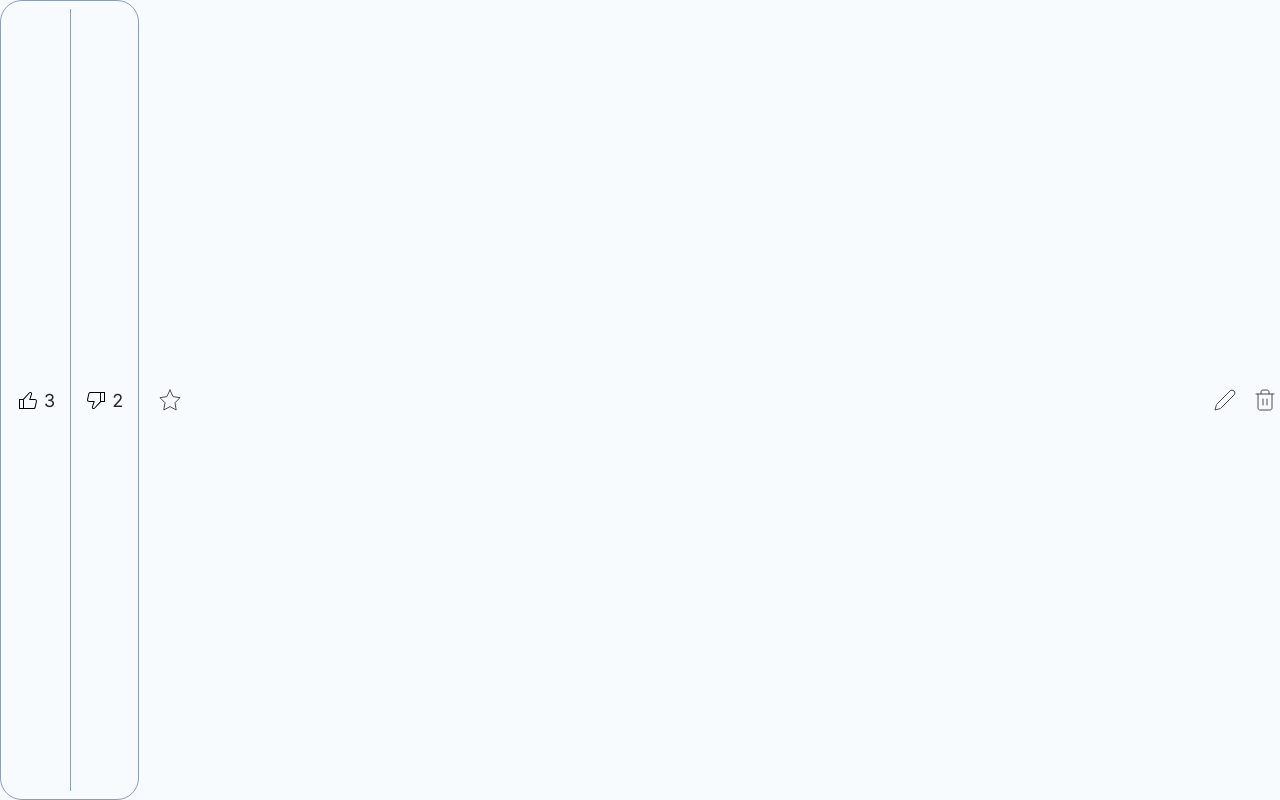
Scenario: PostControls › should show modalConfirm if clicked on basket icon
Click the picture with alt text "basket". click: (1265, 400)
box: [1250,385,1279,415]
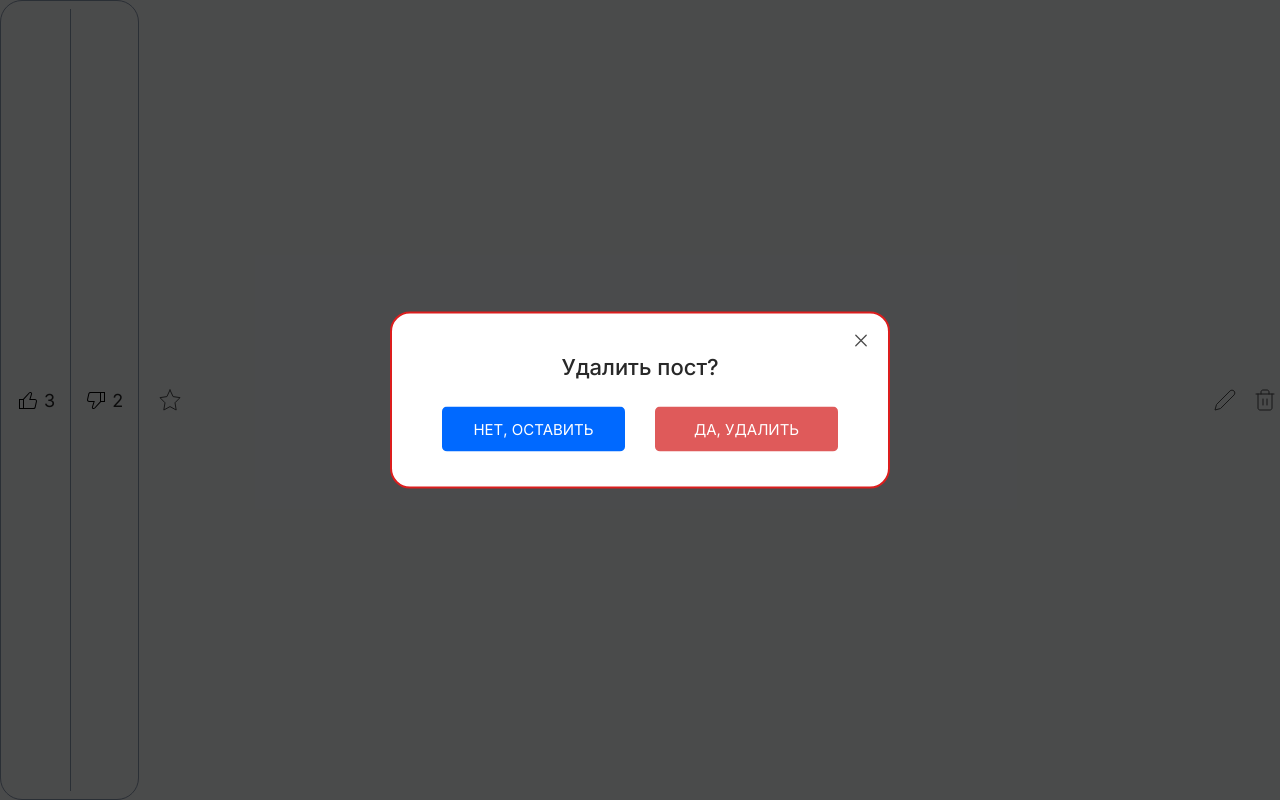
Expected: the element with test id "modalConfirm" is shown, [442,354,838,452]
